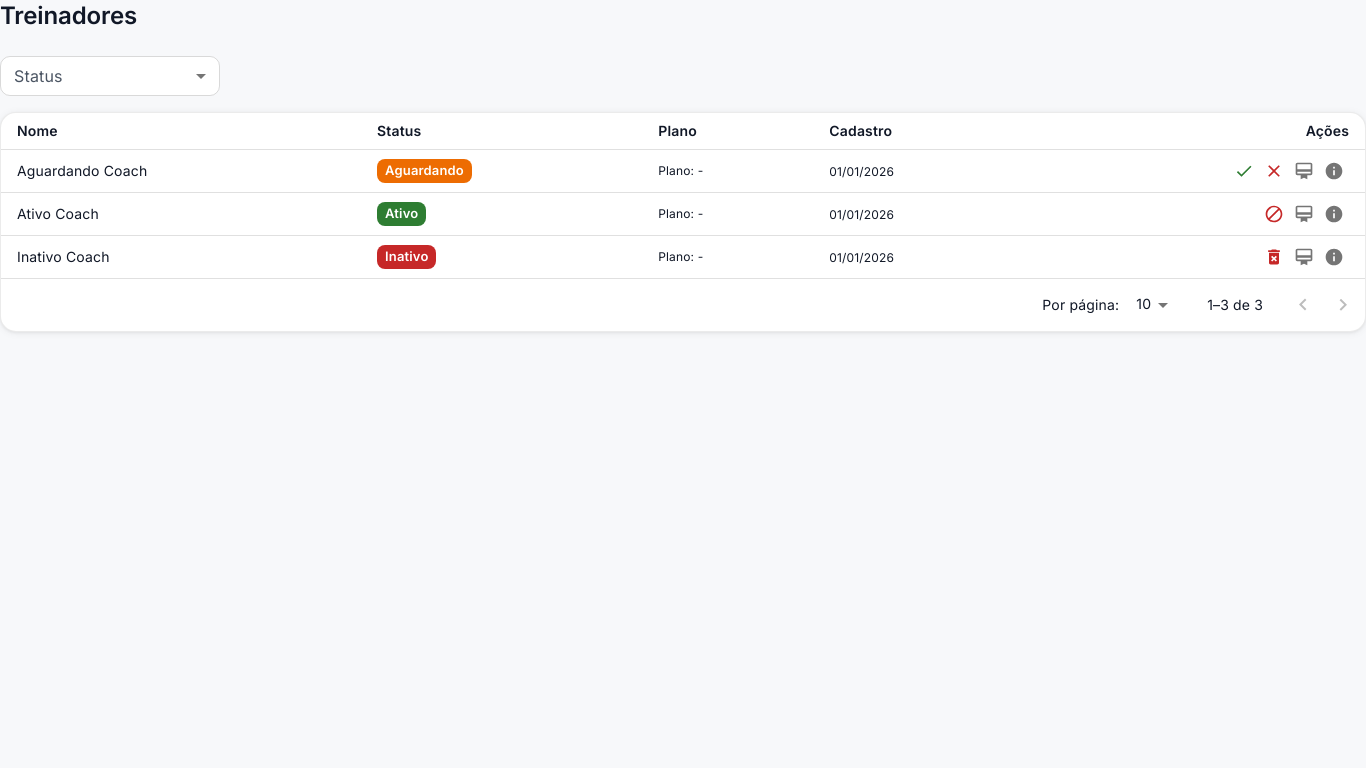
Test case: /admin/treinadores — ações › erro ao aprovar exibe banner
Check: the text "Aguardando Coach" is shown, box [1,150,361,192]
Click the button named "Aprovar treinador" at (1244, 171), box [1229,156,1259,186]
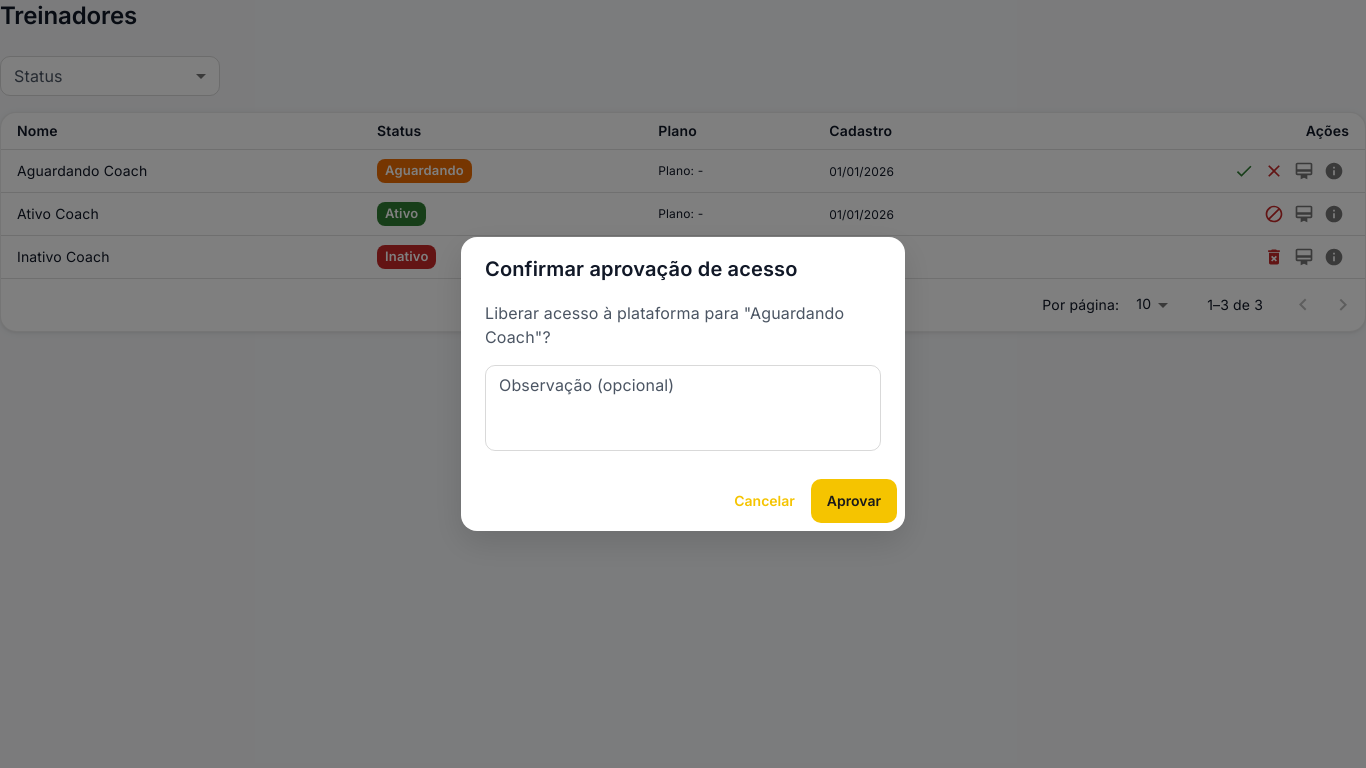
Click the button "Aprovar" at (854, 501), box [811,479,897,523]
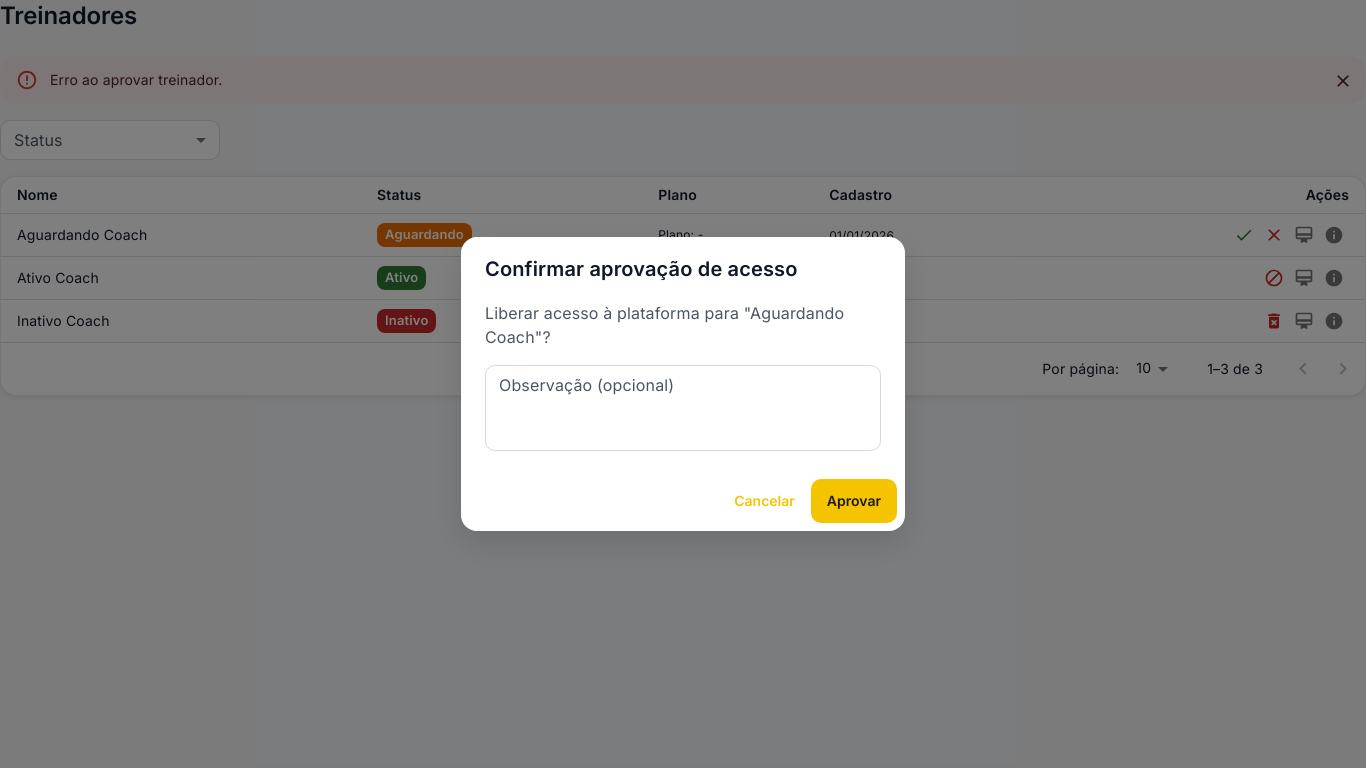
Check: the text "Erro ao aprovar treinador." is shown, box [50,71,222,88]
